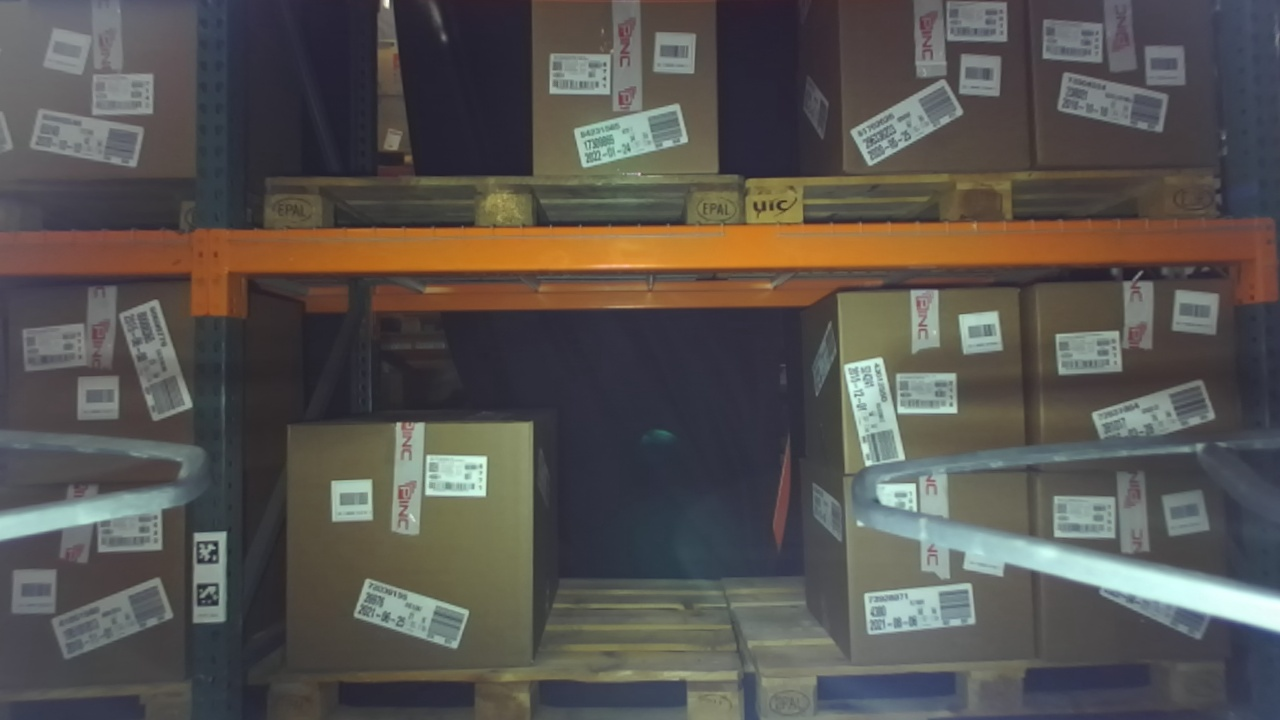box: (274, 399, 553, 680), (1016, 454, 1256, 688), (1023, 263, 1252, 498), (810, 277, 1057, 494), (825, 458, 1062, 682), (1, 466, 214, 701), (2, 269, 215, 484), (815, 4, 1051, 193), (2, 1, 215, 201), (1018, 1, 1238, 191), (521, 3, 733, 194)
